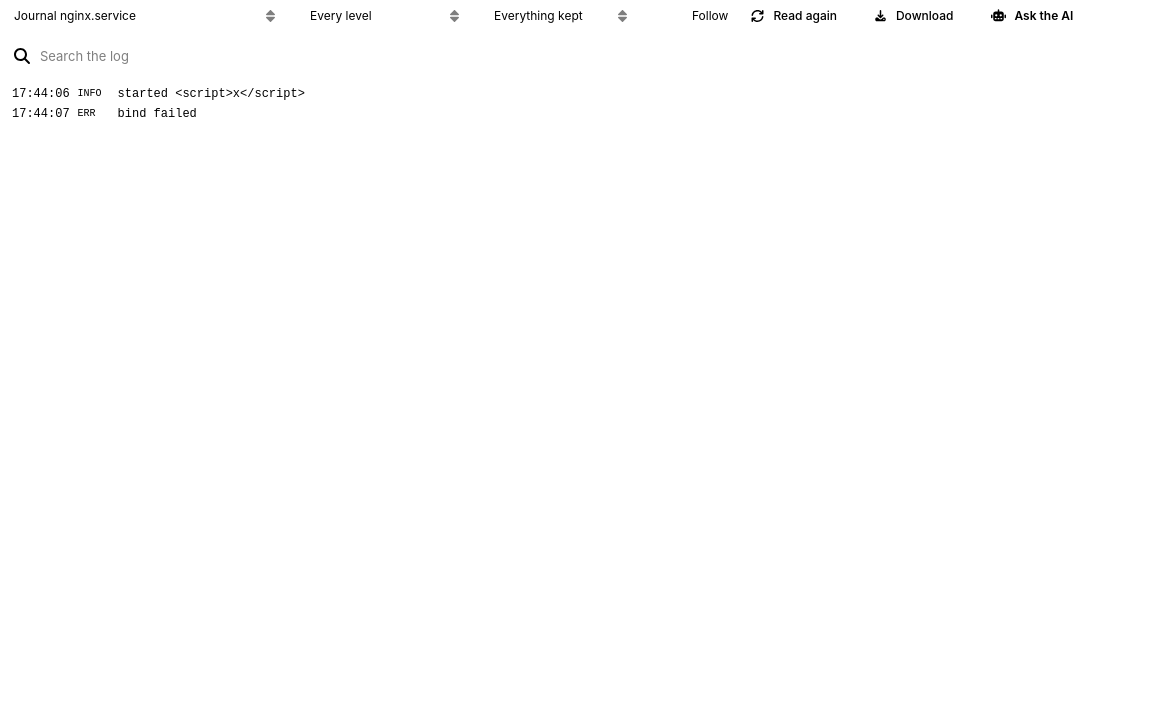
Scenario: LogViewer › shows a journal as text with each level in words, filters by level and searches
Expected: the text "started <script>x</script>" is shown, [118,87,305,101]
Expected: the element showing "17:44:07 err bind failed" is shown, [12,107,197,121]
In the field labelled "Search the log": (594, 56) [40,40,1148,72], type "bind"
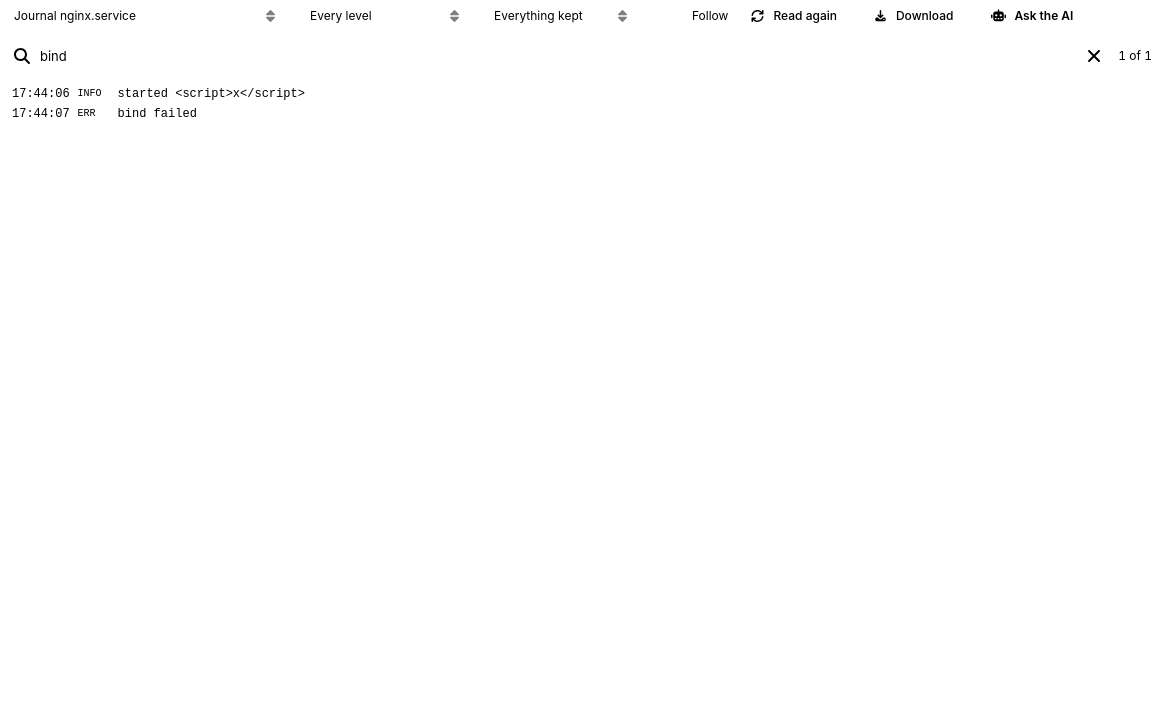
Now the message reads "1 of 1", box [1118,48,1151,63]
Clear the field named "Search the log": (557, 56) [40,40,1074,72]
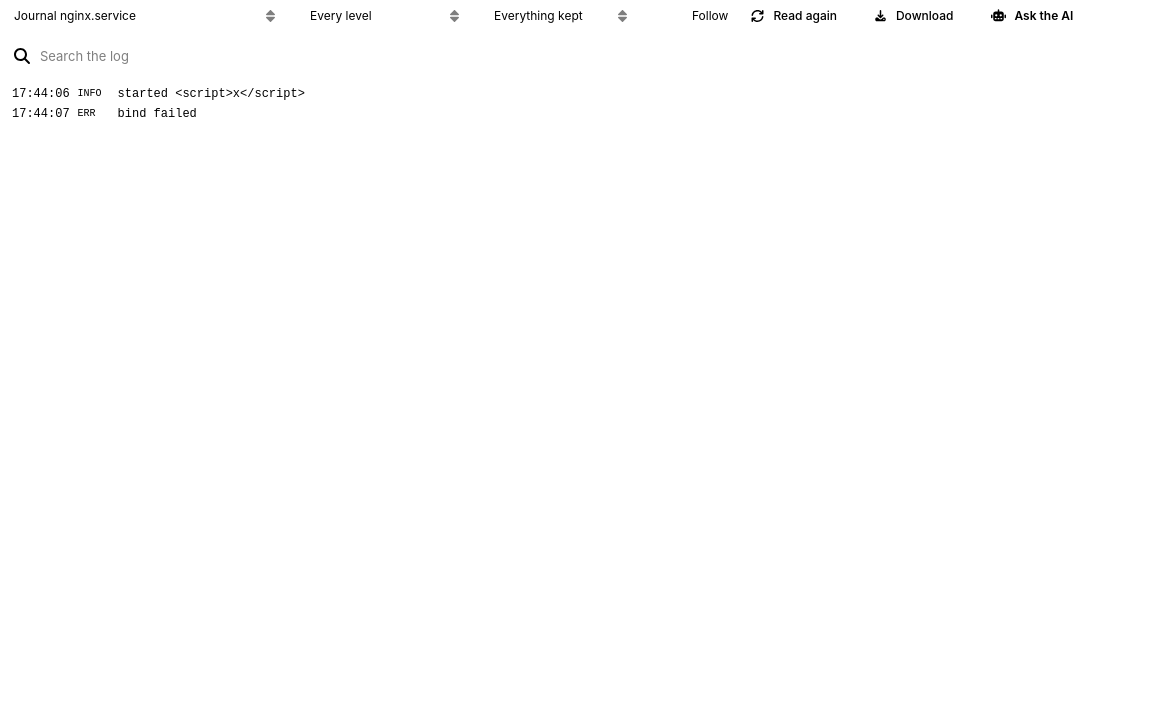
Click the dropdown labelled "level": (384, 16) [296,0,472,32]
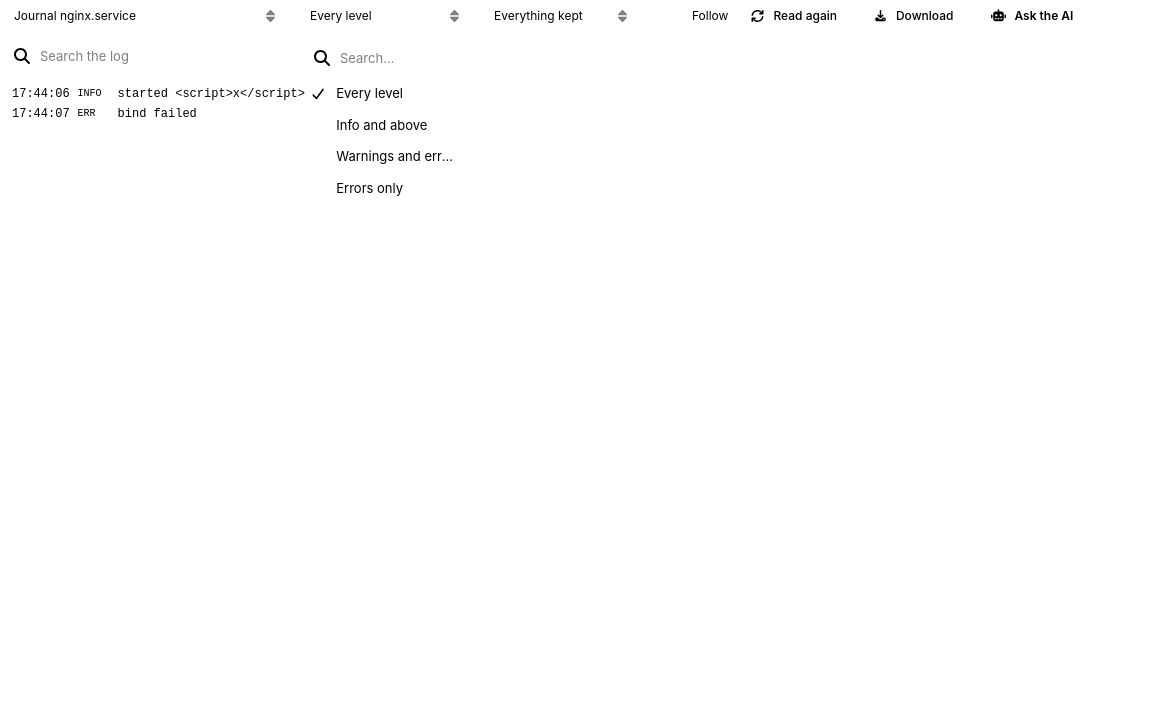
Click the option "Errors only": (370, 188) [336,180,403,196]
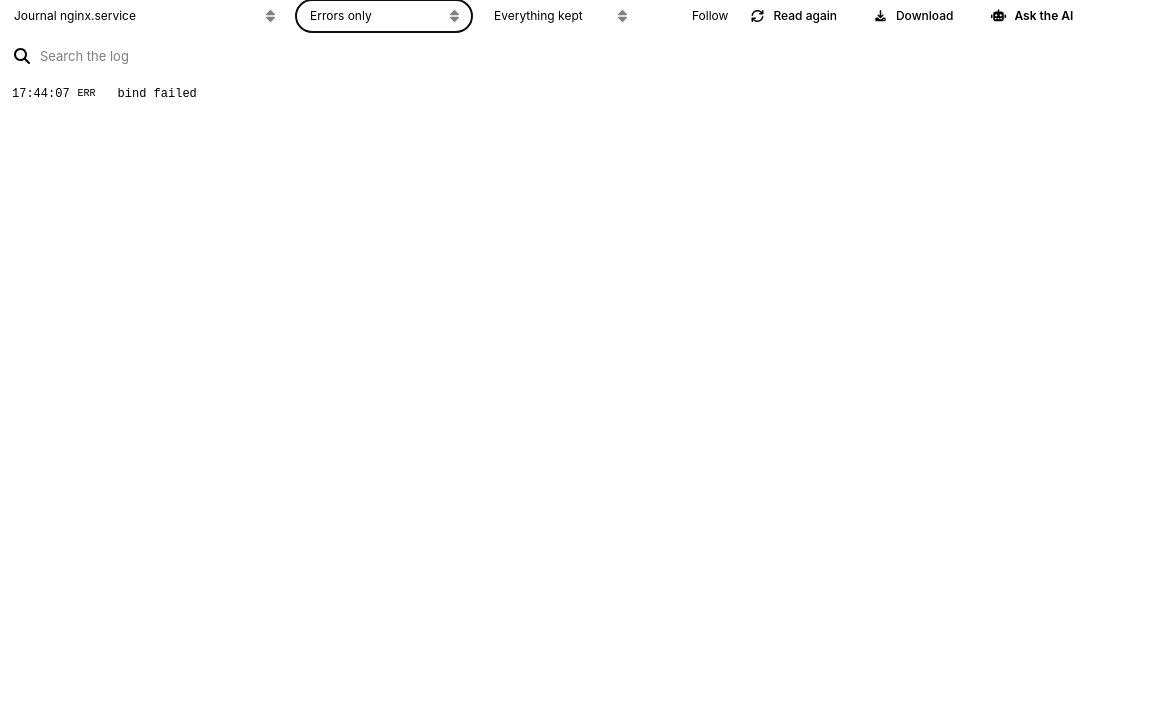
Now the text "bind failed" is shown, box [118,87,197,101]
Now the text "started" is gone
